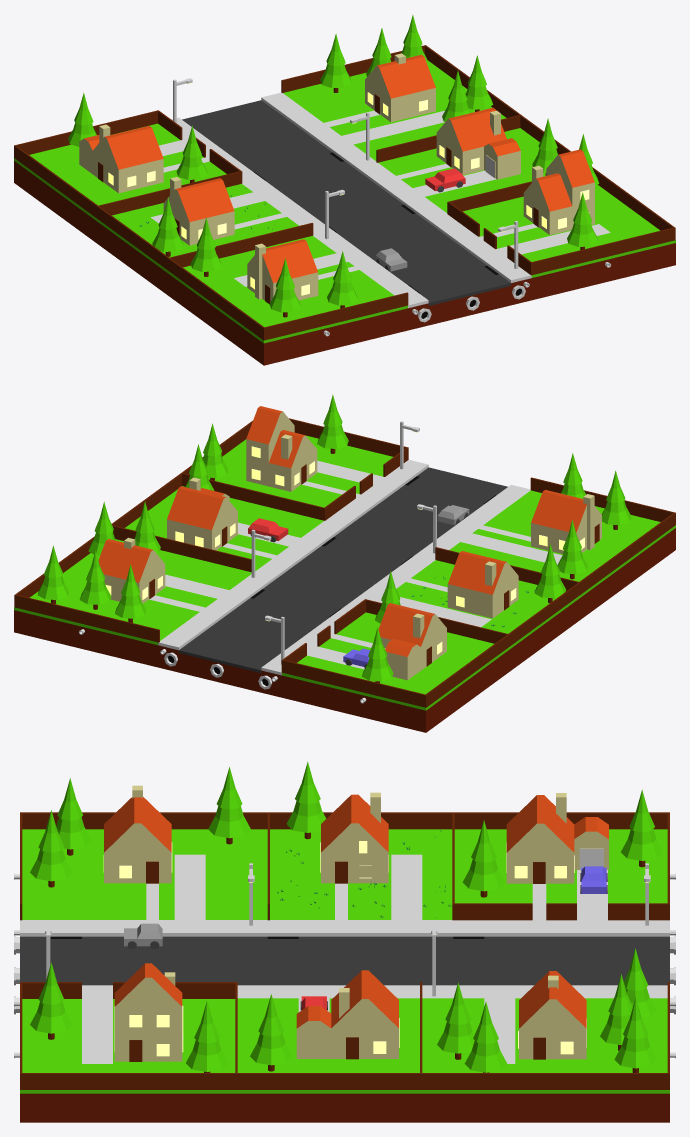
File: neighborhood3.glb
3 renders of one model, top to bottom at view 1: azimuth 30°, elevation 25°; view 2: azimuth 150°, elevation 25°; view 3: azimuth 270°, elevation 25°, orthographic. The views are drawn at different scales.
Parts seen in each view (by area): view 1: Plane_3, Cube.004_11, Cube.002_12, Cube.001_10, Cube.062_9, Cube.060_8, Cube.058_7, Cube.056_6, Cube.054_5, Cube.010_18, Cube.006_15, Cube.005_14 (+11 smaller); view 2: Plane_3, Cube.004_11, Cube.002_12, Cube.060_8, Cube.062_9, Cube.056_6, Cube.001_10, Cube.054_5, Cube.058_7, Cube.023_25, Cube.017_19, Cube.010_18 (+12 smaller); view 3: Plane_3, Cube.002_12, Cube.004_11, Cube.062_9, Cube.001_10, Cube.060_8, Cube.056_6, Cube.054_5, Cube.058_7, Cube.009_17, Cube.008_16, Cube.021_23 (+14 smaller).
Part boxes in pixels (left/top/right/bottom): Plane_3: left=14, top=60, right=675, bottom=365; Cube.004_11: left=14, top=110, right=408, bottom=340; Cube.002_12: left=281, top=45, right=675, bottom=275; Cube.001_10: left=436, top=107, right=520, bottom=179; Cube.062_9: left=79, top=124, right=163, bottom=193; Cube.060_8: left=523, top=149, right=594, bottom=234; Cube.058_7: left=365, top=53, right=435, bottom=122; Cube.056_6: left=163, top=177, right=234, bottom=245; Cube.054_5: left=247, top=239, right=318, bottom=304; Cube.010_18: left=320, top=33, right=351, bottom=92; Cube.006_15: left=190, top=217, right=221, bottom=276; Cube.005_14: left=269, top=258, right=301, bottom=317; Plane_3: left=14, top=435, right=675, bottom=732; Cube.004_11: left=281, top=477, right=675, bottom=707; Cube.002_12: left=14, top=418, right=408, bottom=642; Cube.060_8: left=246, top=406, right=317, bottom=491; Cube.062_9: left=378, top=603, right=446, bottom=680; Cube.056_6: left=447, top=551, right=518, bottom=618; Cube.001_10: left=167, top=477, right=237, bottom=550; Cube.054_5: left=531, top=490, right=601, bottom=553; Cube.058_7: left=98, top=537, right=165, bottom=603; Cube.023_25: left=317, top=394, right=348, bottom=453; Cube.017_19: left=79, top=550, right=111, bottom=609; Cube.010_18: left=115, top=564, right=146, bottom=622; Plane_3: left=20, top=829, right=669, bottom=1122; Cube.002_12: left=20, top=982, right=669, bottom=1089; Cube.004_11: left=20, top=812, right=669, bottom=920; Cube.062_9: left=506, top=793, right=608, bottom=883; Cube.001_10: left=296, top=970, right=399, bottom=1059; Cube.060_8: left=114, top=963, right=183, bottom=1061; Cube.056_6: left=320, top=792, right=388, bottom=883; Cube.054_5: left=103, top=785, right=172, bottom=883; Cube.058_7: left=518, top=971, right=586, bottom=1059; Cube.009_17: left=462, top=820, right=505, bottom=897; Cube.008_16: left=621, top=789, right=663, bottom=867; Cube.021_23: left=250, top=994, right=292, bottom=1071.
Bounding box in the file's own units: 18.3 × 3.8 × 19.57.
